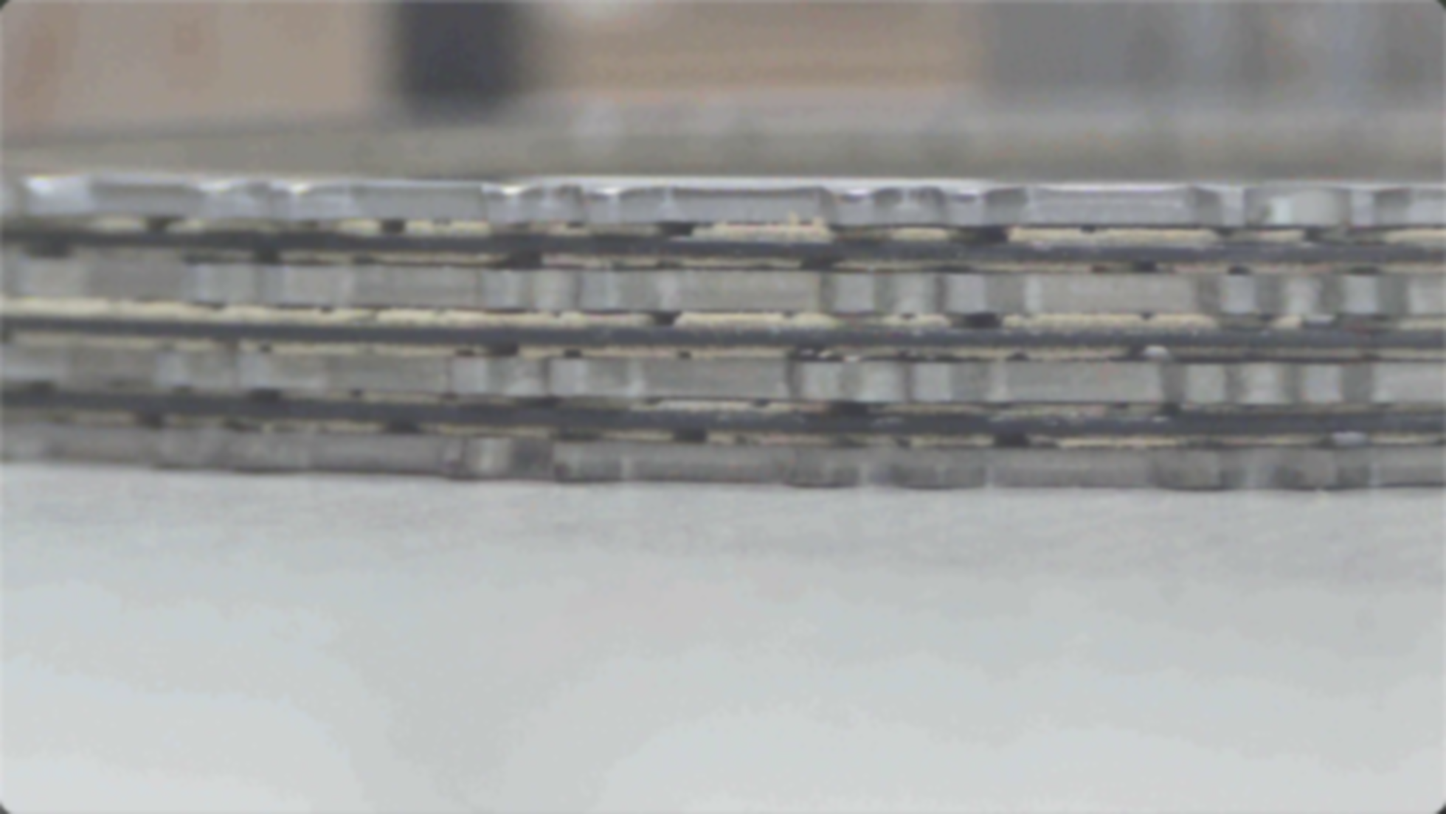Black metal plate: (0, 420, 1445, 490)
shiney metal plate: (18, 198, 1401, 676), (0, 252, 1442, 316), (4, 172, 1445, 230)
spacer: (10, 272, 1434, 547), (13, 265, 1446, 402), (0, 226, 1430, 265)
